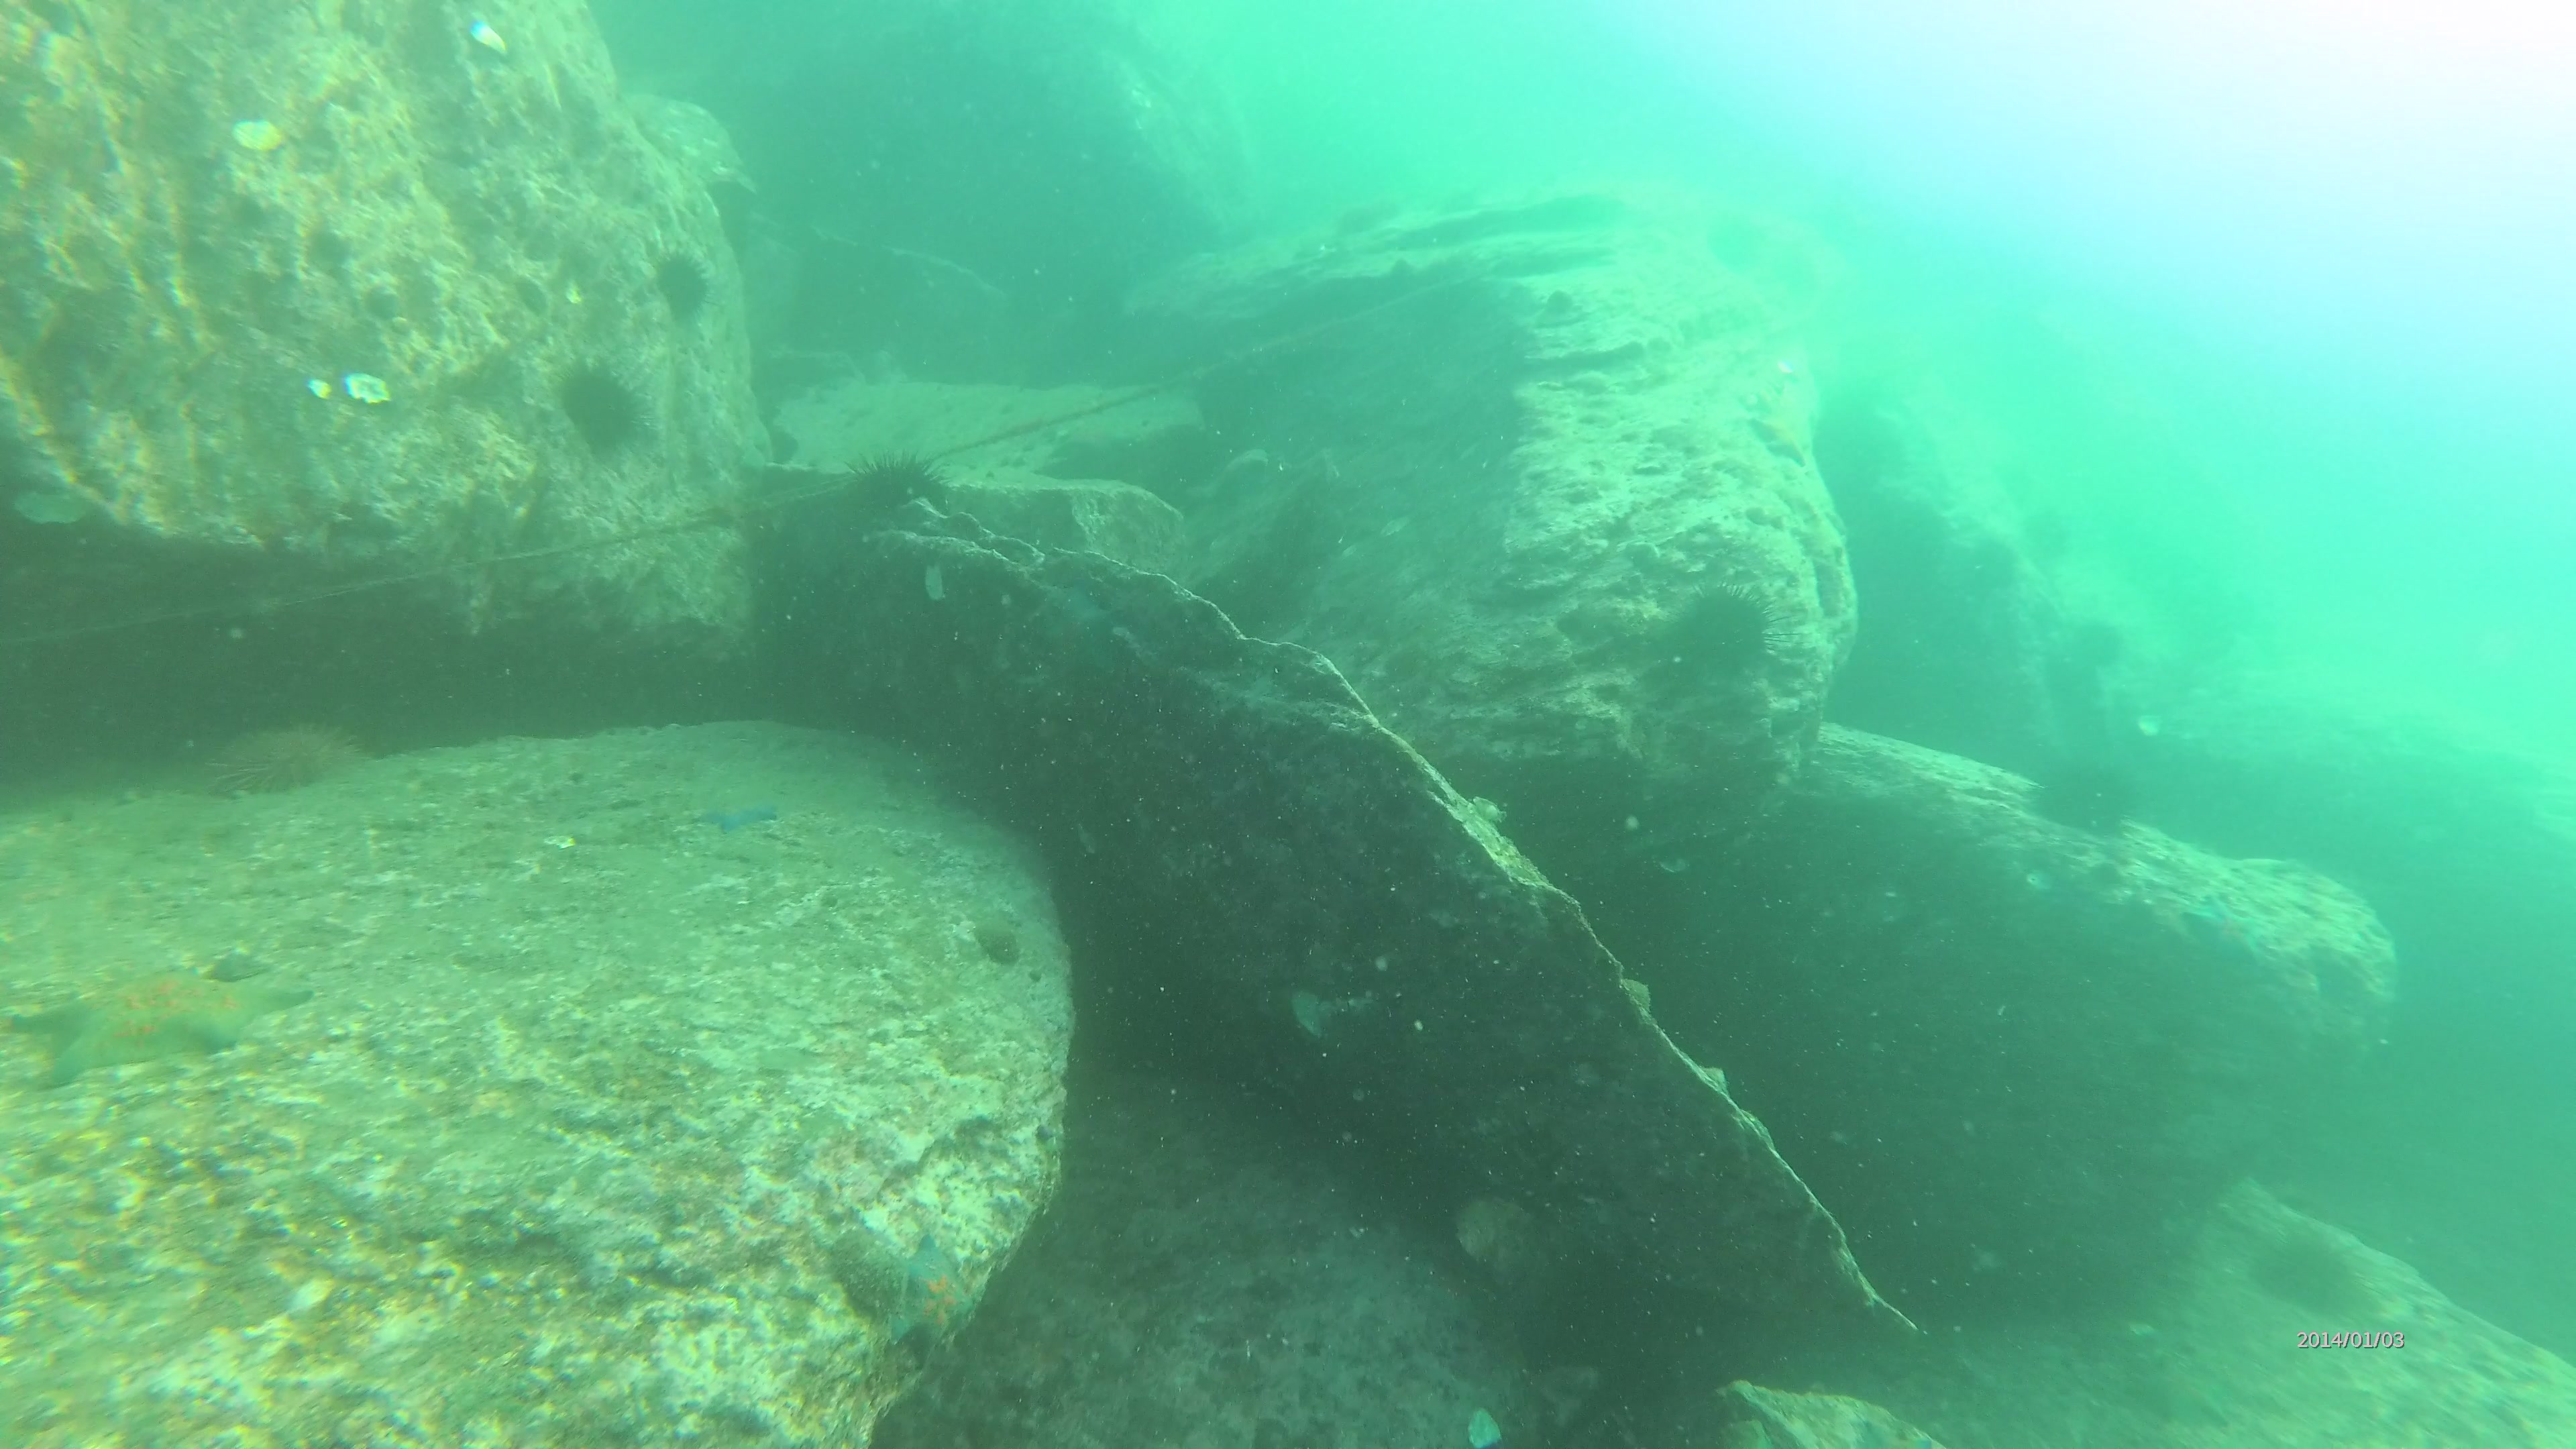echinus: (205, 715, 366, 805), (1667, 575, 1798, 679), (2245, 1223, 2381, 1322), (556, 350, 651, 456), (2020, 752, 2135, 839), (839, 451, 952, 538), (646, 248, 711, 326)
starfish: (19, 945, 306, 1076), (883, 1228, 982, 1355), (697, 780, 784, 842)
